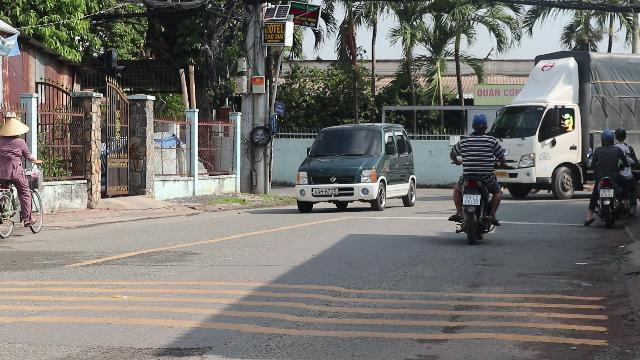helmet: (600, 129, 614, 145)
licenseplate: (464, 195, 481, 205), (600, 189, 614, 197)
motorcyclist: (446, 112, 506, 242), (585, 127, 639, 227)
nohelmet: (470, 114, 488, 132)
